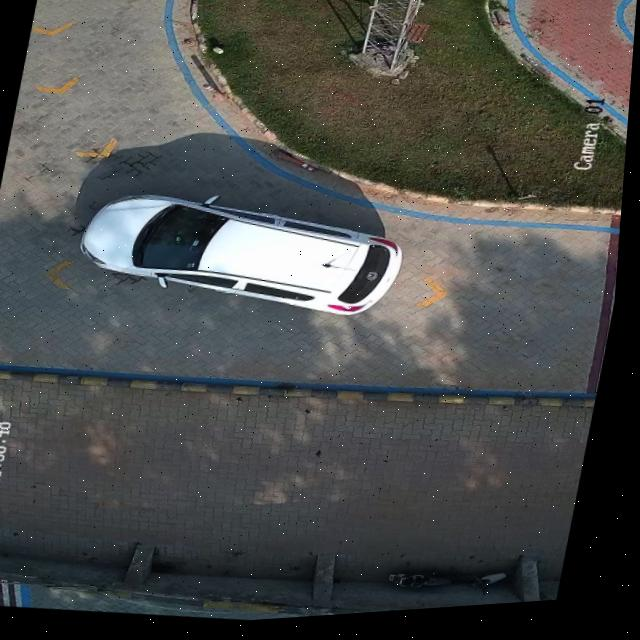car: (79, 193, 406, 318)
